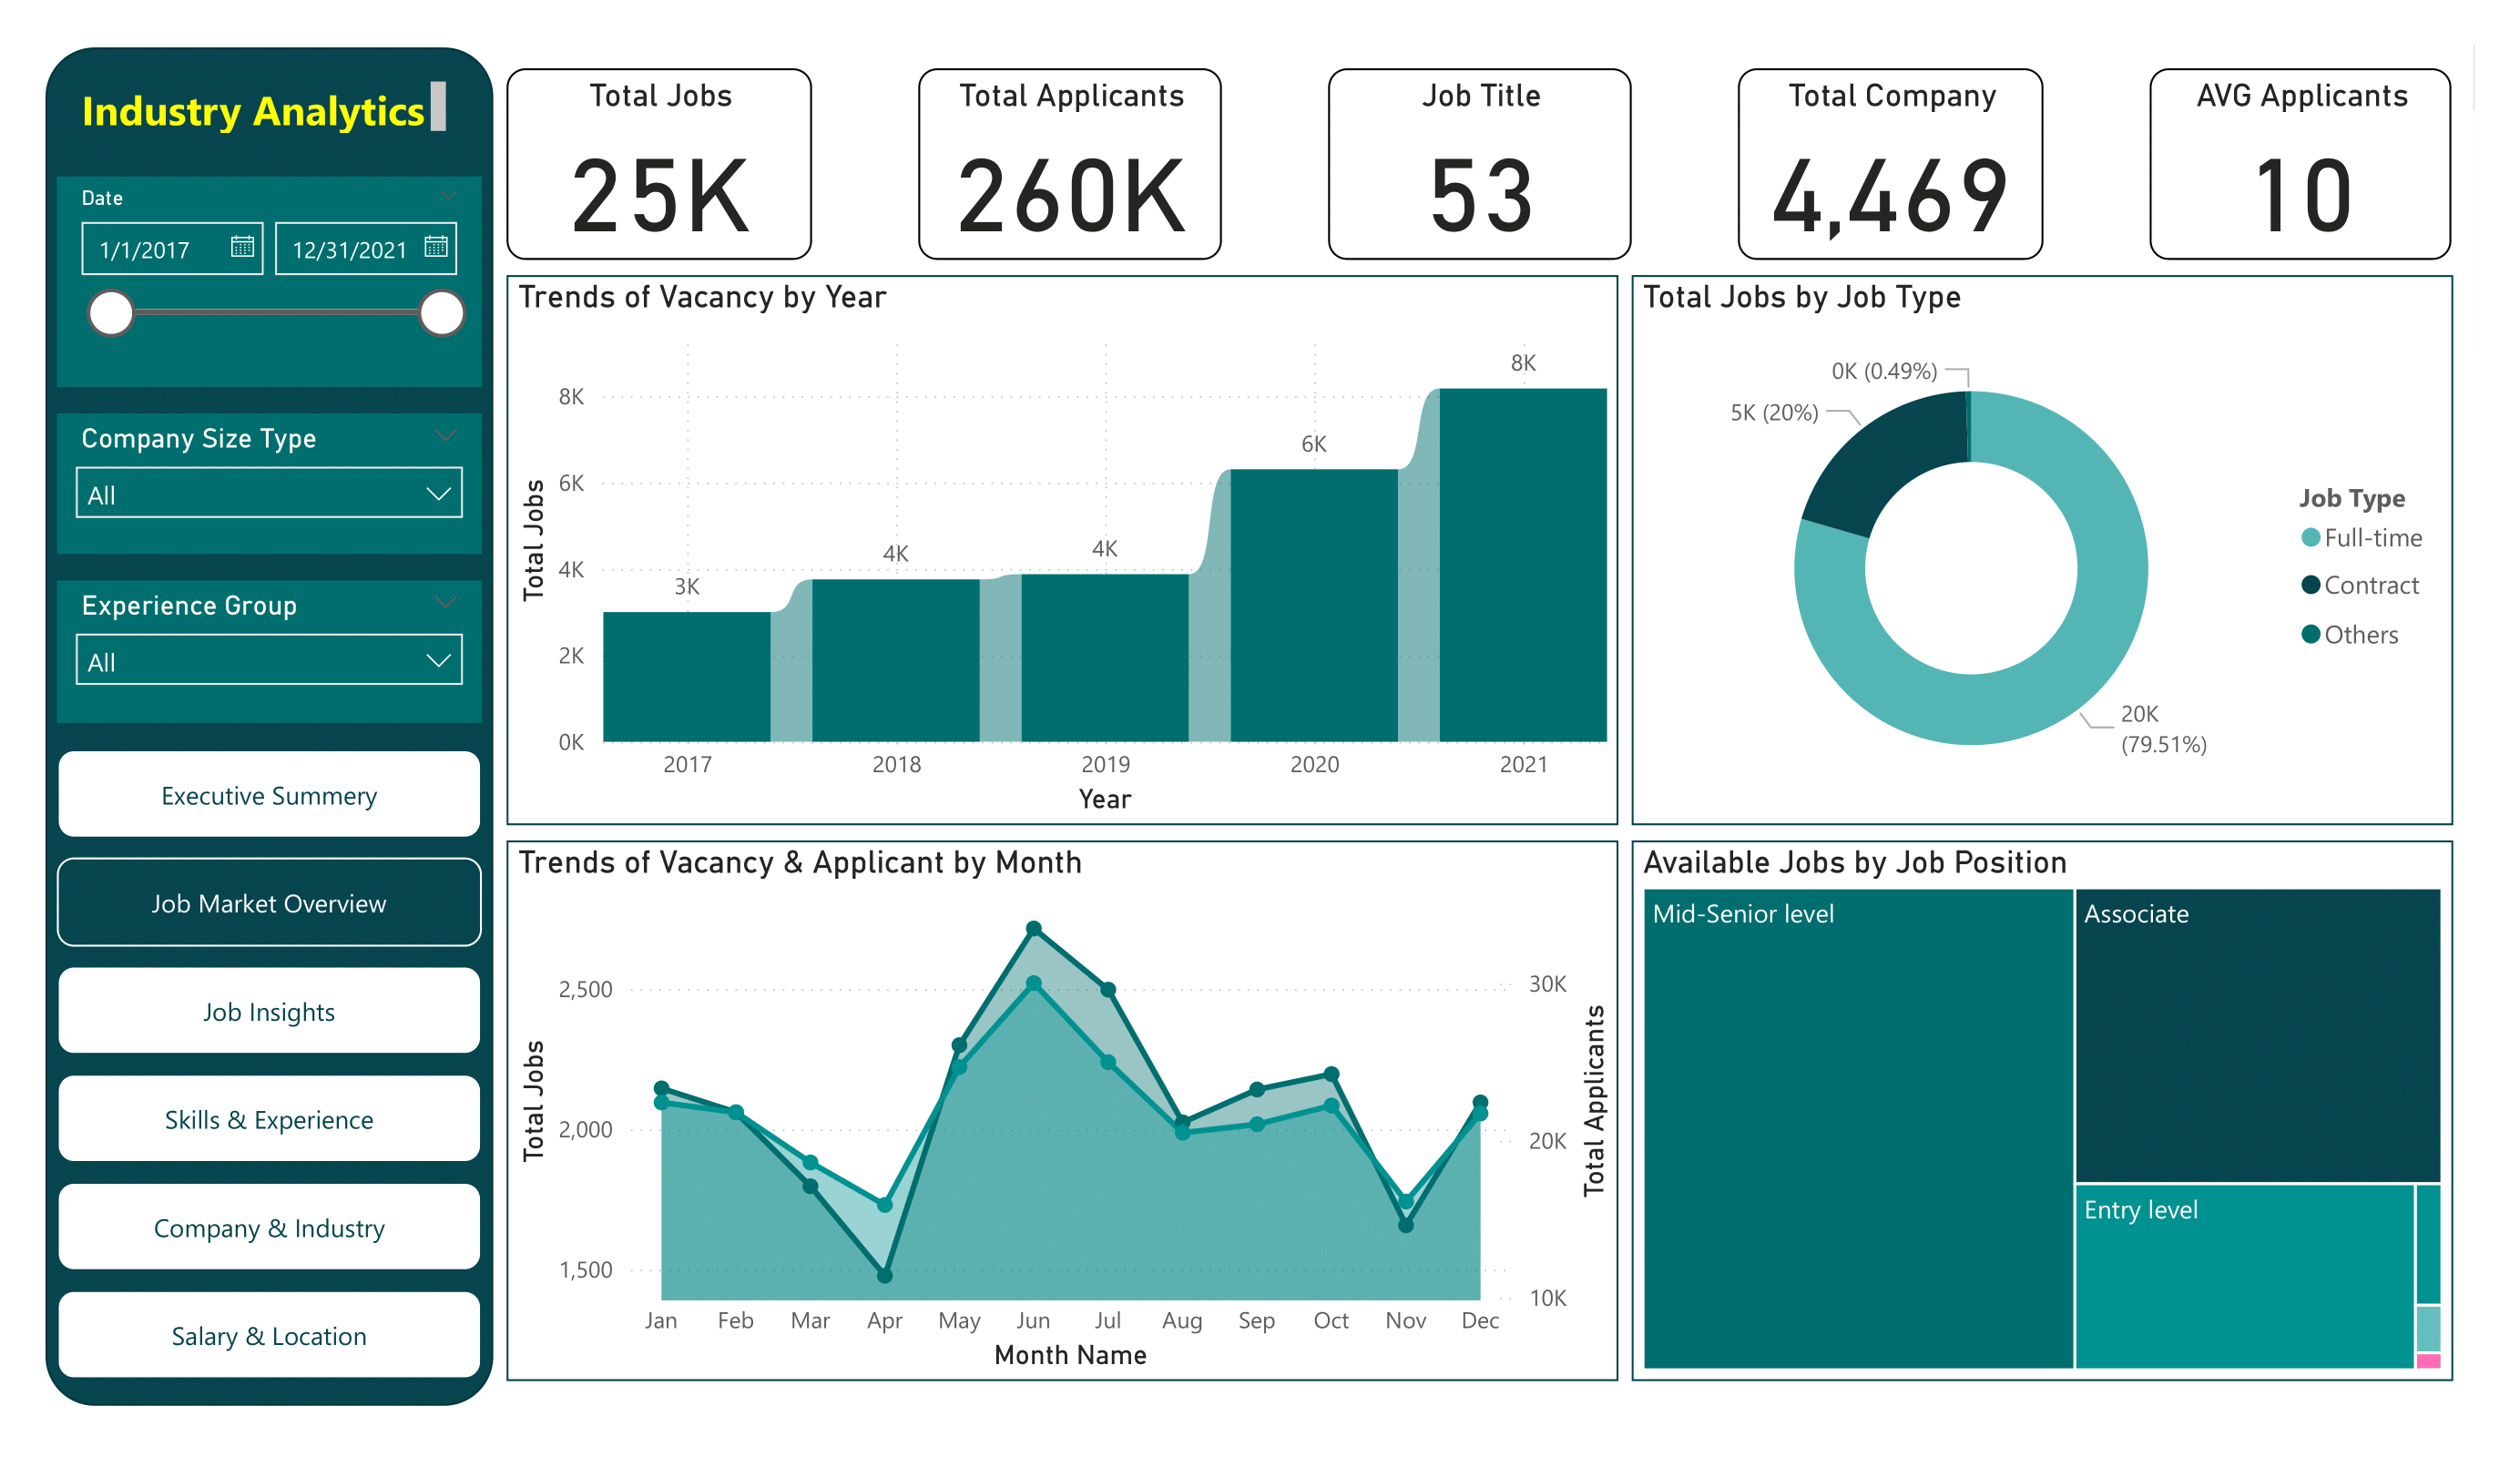

The page's visual inventory and layout, read from the dashboard file:
{"tool":"powerbi","page":{"name":"Job Market Overview","canvas":[1280,720],"ordinal":1},"visuals":[{"type":"donutChart","fields":{"Category":["job_postings.Job Type"],"Y":["_Measure.Total Jobs"]},"box":[835.6,121.1,433.3,290],"z":0},{"type":"card","title":"Total Applicants","fields":{"Values":["_Measure.Total Jobs"]},"box":[459.9,11.6,159.9,101],"z":1000},{"type":"card","title":"Total Company","fields":{"Values":["Count(job_postings.Company Name)"]},"box":[891.6,11.6,160.9,101],"z":2000},{"type":"columnChart","title":"Trends of Vacancy by Year","fields":{"Category":["DimDate.Year"],"Y":["_Measure.Total Jobs"]},"box":[243.3,121.1,585.6,290],"z":3000},{"type":"card","title":"Total Jobs","fields":{"Values":["CountNonNull(job_postings.Job Posting ID)"]},"box":[243,11.6,160.9,101],"z":4000},{"type":"card","title":"Job Title","fields":{"Values":["_Measure.Unique Job Titles"]},"box":[675.8,11.6,159.9,101],"z":5000},{"type":"lineChart","title":"Trends of Vacancy & Applicant by Month","fields":{"Category":["DimDate.Month Name"],"Y":["_Measure.Total Jobs"],"Y2":["_Measure.Total Applicants"]},"box":[243.3,418.9,585.6,285.6],"z":6000},{"type":"treemap","fields":{"Values":["_Measure.Total Jobs"],"Group":["job_postings.Job Position Level"]},"box":[835.6,418.9,433.3,285.6],"z":7000},{"type":"shape","box":[0,0.9,236.5,715.9],"z":8000,"group":"g1"},{"type":"card","title":"AVG Applicants","fields":{"Values":["_Measure.Avg Applicants"]},"box":[1108.6,11.6,159.9,101],"z":8000},{"type":"group","id":"g1","title":"Group 1","box":[0,0.9,236.5,715.9],"z":9000},{"type":"textbox","box":[10.9,13.5,205.5,37.3],"z":9000,"group":"g1"},{"type":"slicer","fields":{"Values":["DimDate.Date"]},"box":[5.6,68.7,224.1,111],"z":10000},{"type":"pageNavigator","box":[5.6,371.1,224.1,332.6],"z":11000},{"type":"slicer","fields":{"Values":["job_postings.Company Size Type"]},"box":[5.6,193.7,224.1,74.6],"z":12000},{"type":"slicer","fields":{"Values":["job_postings.Experience Group"]},"box":[5.7,282.4,224.1,74.7],"z":13000}]}

Visuals, with their boxes in screenshot pixels (x1, y1, x2, y2):
donutChart - job_postings.Job Type x _Measure.Total Jobs: x1=1631 y1=275 x2=2454 y2=825
"Total Applicants" card: x1=918 y1=67 x2=1221 y2=260
"Total Company" card: x1=1738 y1=67 x2=2043 y2=260
"Trends of Vacancy by Year" columnChart: x1=507 y1=275 x2=1618 y2=825
"Total Jobs" card: x1=506 y1=67 x2=812 y2=260
"Job Title" card: x1=1328 y1=67 x2=1631 y2=260
"Trends of Vacancy & Applicant by Month" lineChart: x1=507 y1=841 x2=1618 y2=1382
treemap - _Measure.Total Jobs x job_postings.Job Position Level: x1=1631 y1=841 x2=2454 y2=1382
shape: x1=46 y1=47 x2=495 y2=1405
"AVG Applicants" card: x1=2149 y1=67 x2=2453 y2=260
"Group 1" group: x1=46 y1=47 x2=495 y2=1405
textbox: x1=66 y1=71 x2=456 y2=142
slicer - DimDate.Date: x1=56 y1=176 x2=482 y2=386
pageNavigator: x1=56 y1=749 x2=482 y2=1381
slicer - job_postings.Company Size Type: x1=56 y1=413 x2=482 y2=555
slicer - job_postings.Experience Group: x1=56 y1=581 x2=482 y2=723
